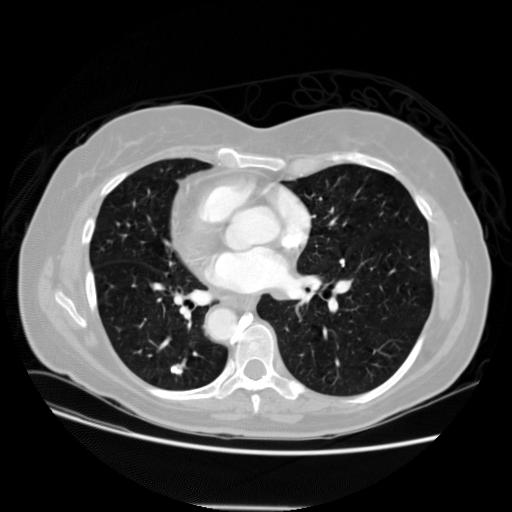nodule: (170, 362, 186, 378)
